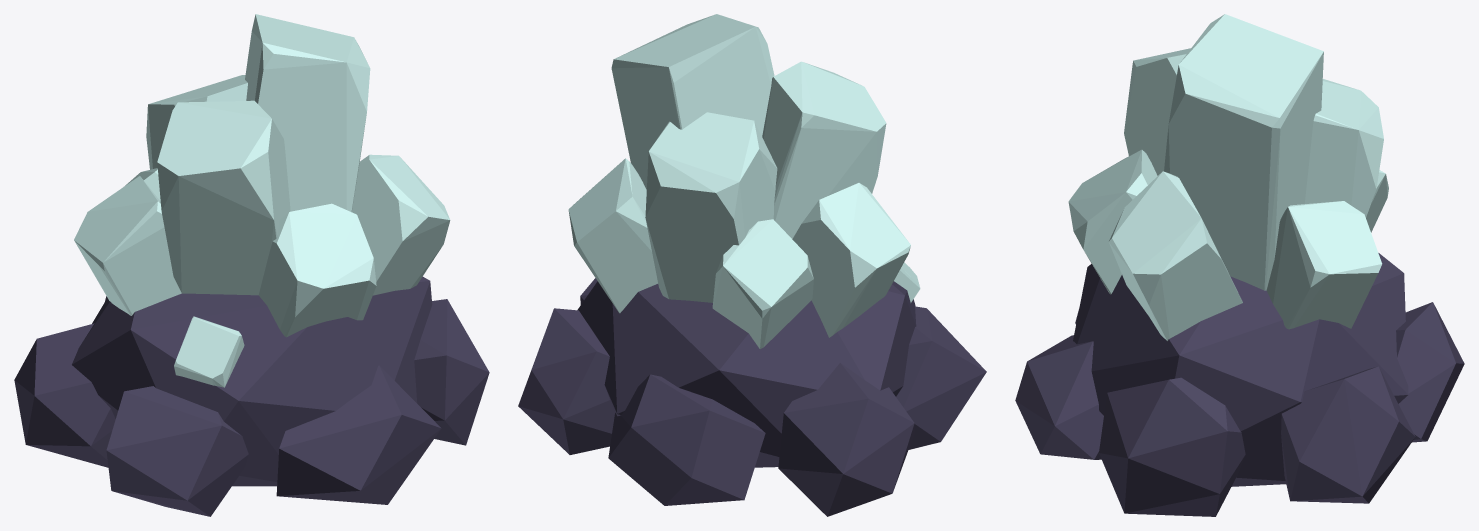
The model's file is Ore_Platinum.fbx.
3 renders of one model, left to right at view 1: azimuth 30°, elevation 25°; view 2: azimuth 150°, elevation 25°; view 3: azimuth 270°, elevation 25°, orthographic. The views are drawn at different scales.
Parts seen in each view (by area): view 1: Ore_Rock, Ore_Crystal; view 2: Ore_Crystal, Ore_Rock; view 3: Ore_Rock, Ore_Crystal.
Part boxes in pixels (left/top/right/bottom): Ore_Rock: left=14, top=276, right=489, bottom=516; Ore_Crystal: left=74, top=14, right=450, bottom=387; Ore_Crystal: left=568, top=14, right=920, bottom=348; Ore_Rock: left=518, top=278, right=986, bottom=516; Ore_Rock: left=1015, top=253, right=1464, bottom=516; Ore_Crystal: left=1068, top=14, right=1388, bottom=340.
Size of the model in its own units: 1.85 by 2 by 1.85.
